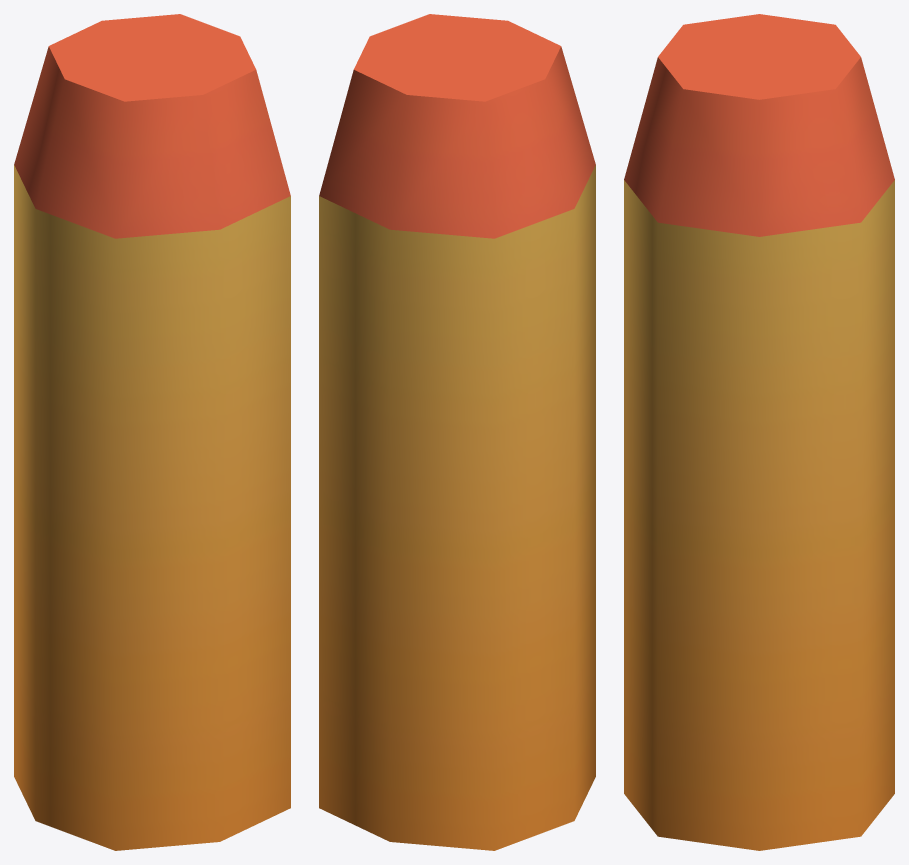
Rendered from bullet-foam-tip.glb.
3 renders of one model, left to right at view 1: azimuth 30°, elevation 25°; view 2: azimuth 150°, elevation 25°; view 3: azimuth 270°, elevation 25°, orthographic.
Visible parts, largest first — view 1: bullet-foam-tip; view 2: bullet-foam-tip; view 3: bullet-foam-tip.
Part boxes in pixels (left/top/right/bottom): bullet-foam-tip: left=14, top=14, right=290, bottom=850; bullet-foam-tip: left=319, top=14, right=595, bottom=850; bullet-foam-tip: left=624, top=14, right=894, bottom=850.
Bounding box in the file's own units: 0.02 × 0.06 × 0.02.
Materials: 1 (1 with a texture image).
